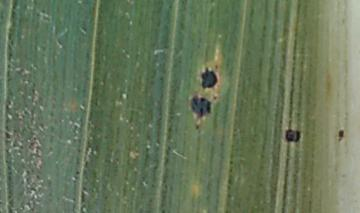tarspot: (191, 97, 212, 116), (202, 67, 218, 89), (285, 128, 302, 143), (337, 128, 344, 142), (195, 124, 201, 131)
